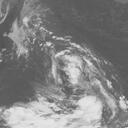cyclone: (47, 43, 100, 96)
